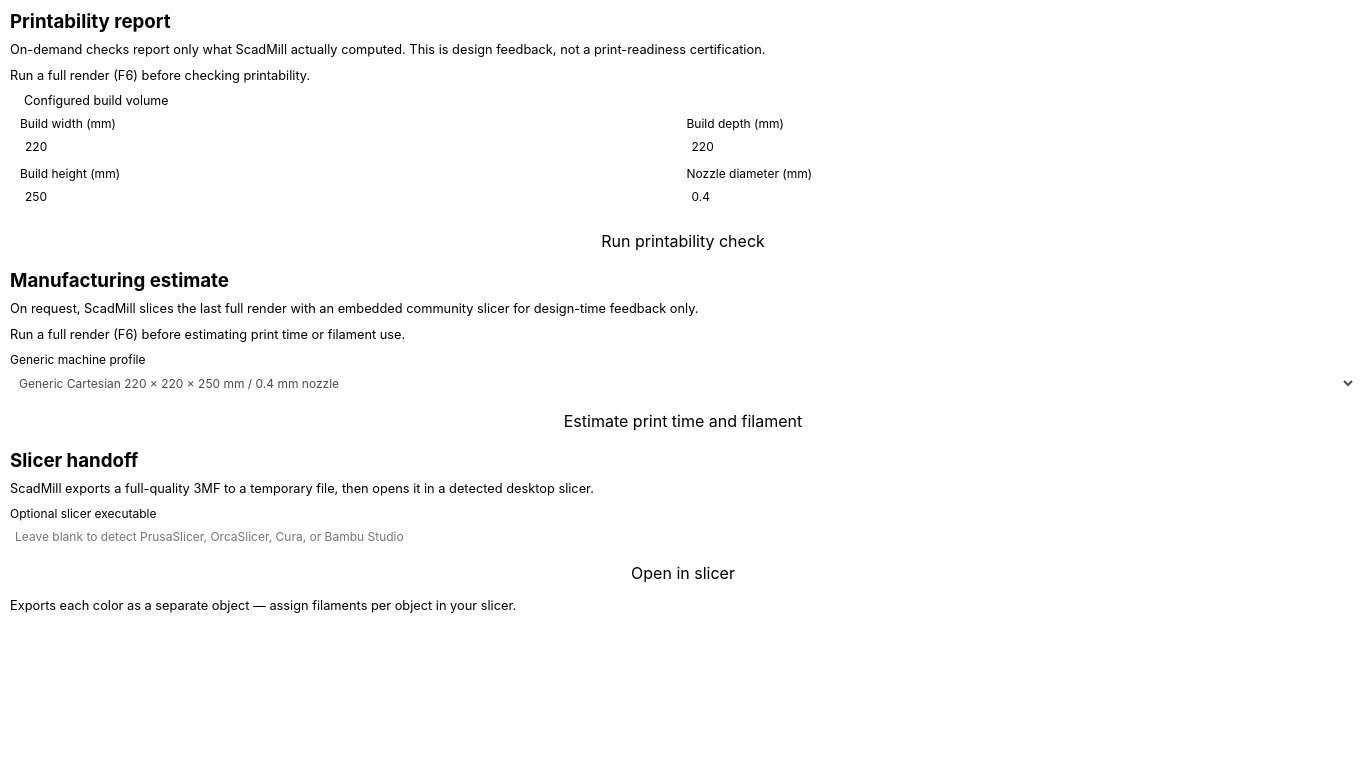
ManufacturingActivity › launches a detected or explicitly configured desktop slicer with honest handoff copy
The image size is (1366, 768).
Replace the text in the field labelled "Optional slicer executable" with " C:/Tools/orca-slicer.exe ": (683, 536) [10, 524, 1356, 548]
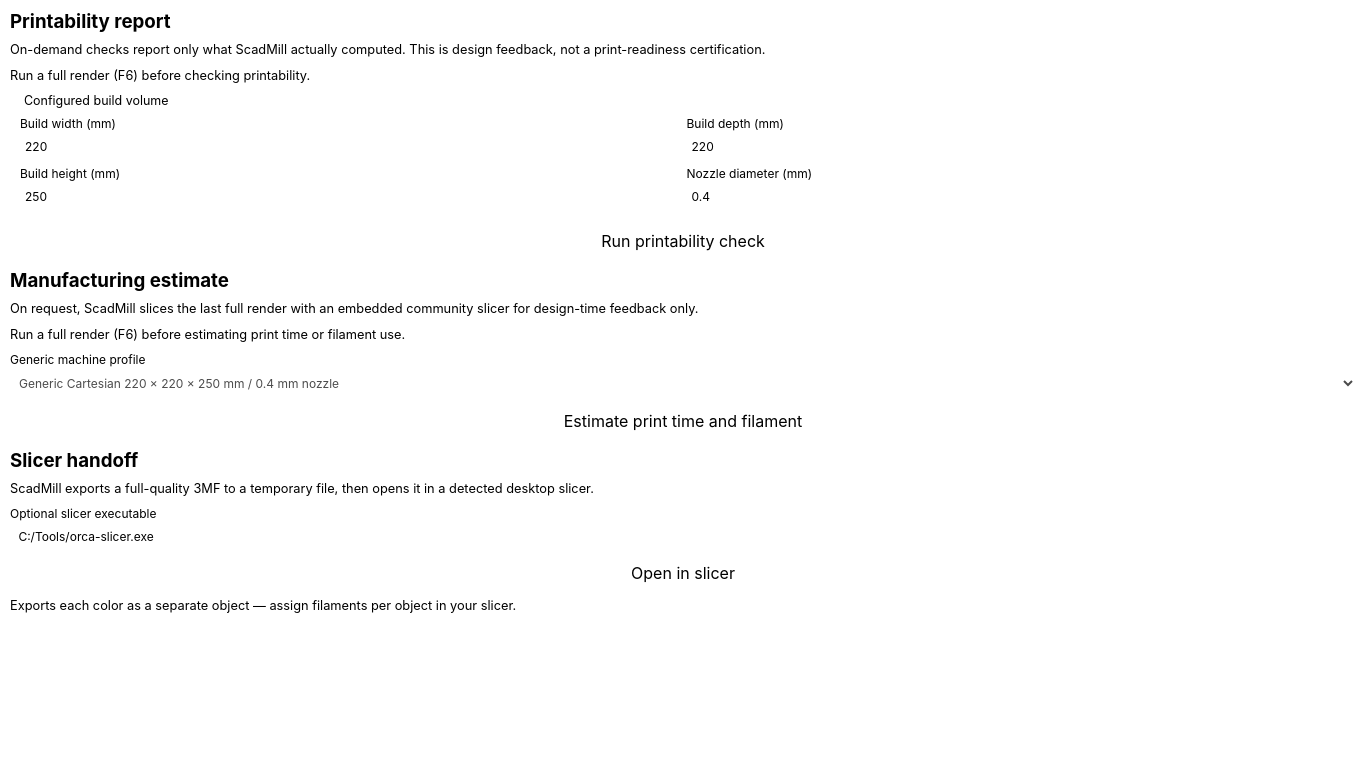
Click the button "Open in slicer": click(683, 572) [10, 556, 1356, 588]
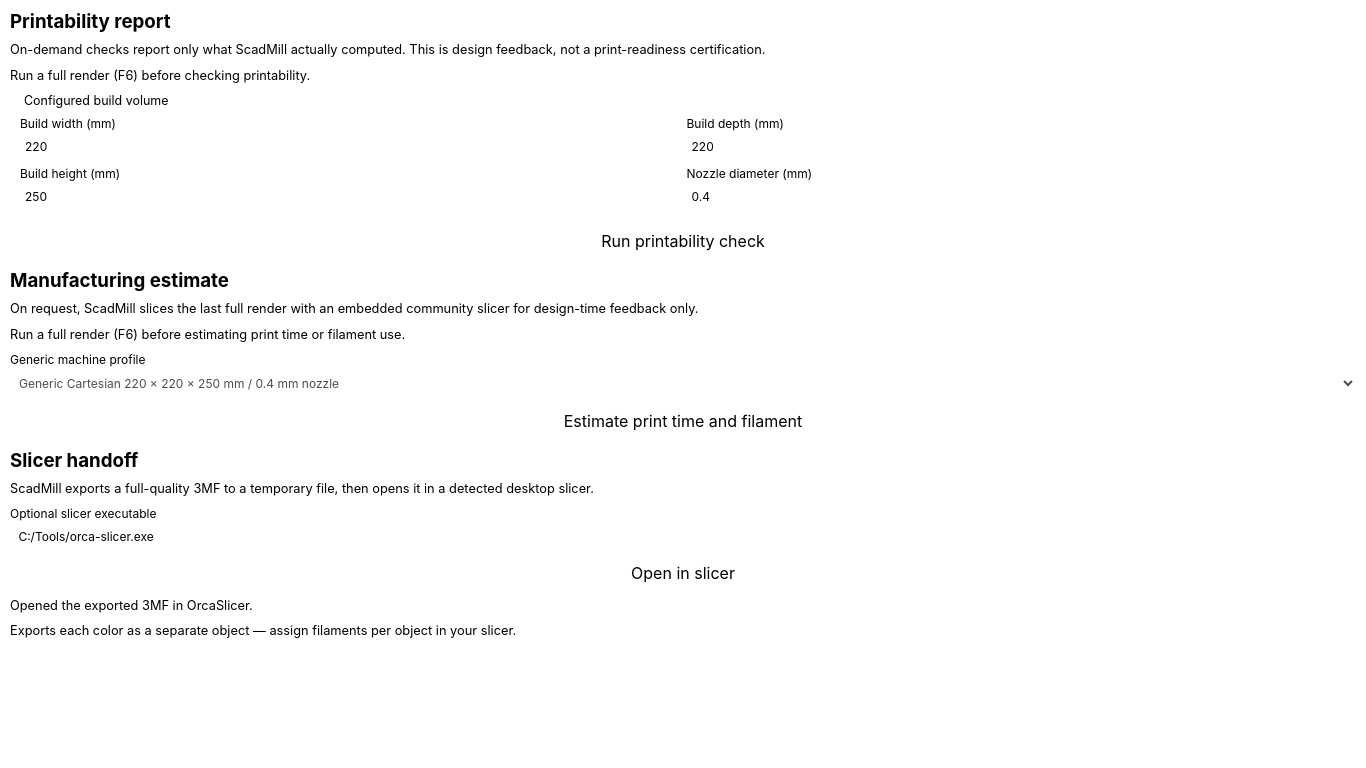
Expected: the text "assign filaments per object in your slicer" is shown, [10, 623, 516, 638]
Expected: the text "Opened the exported 3MF in OrcaSlicer." is shown, [10, 598, 253, 612]
